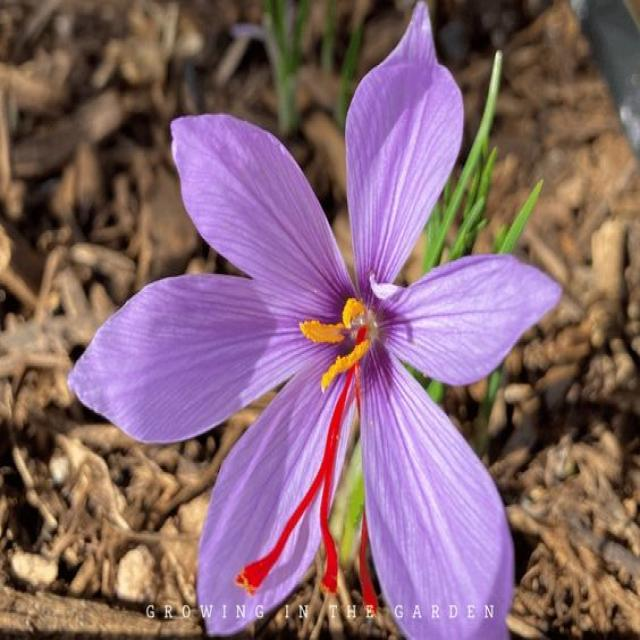Flower: (68, 2, 558, 638)
stigma: (236, 368, 356, 598), (316, 363, 357, 597), (355, 521, 385, 620)
